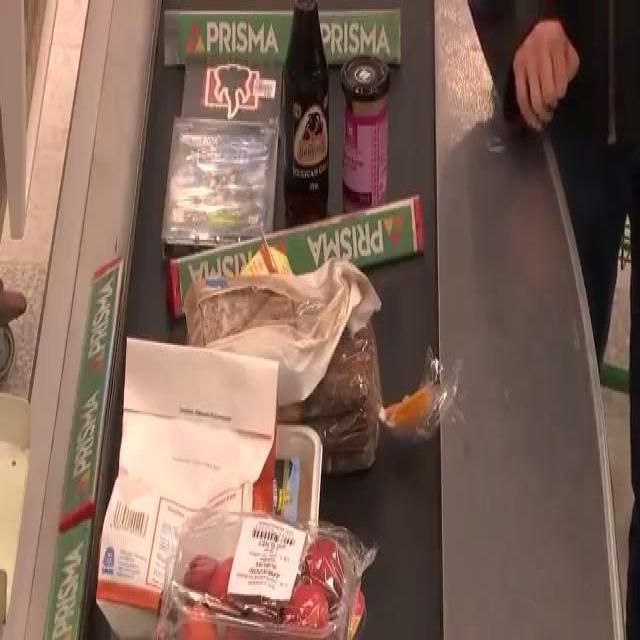beverage: (284, 9, 331, 235)
food-box: (120, 326, 276, 627), (201, 276, 383, 448), (337, 56, 398, 225)
utility-box: (158, 95, 282, 262), (183, 54, 286, 134)
vegetable: (162, 542, 366, 640)
